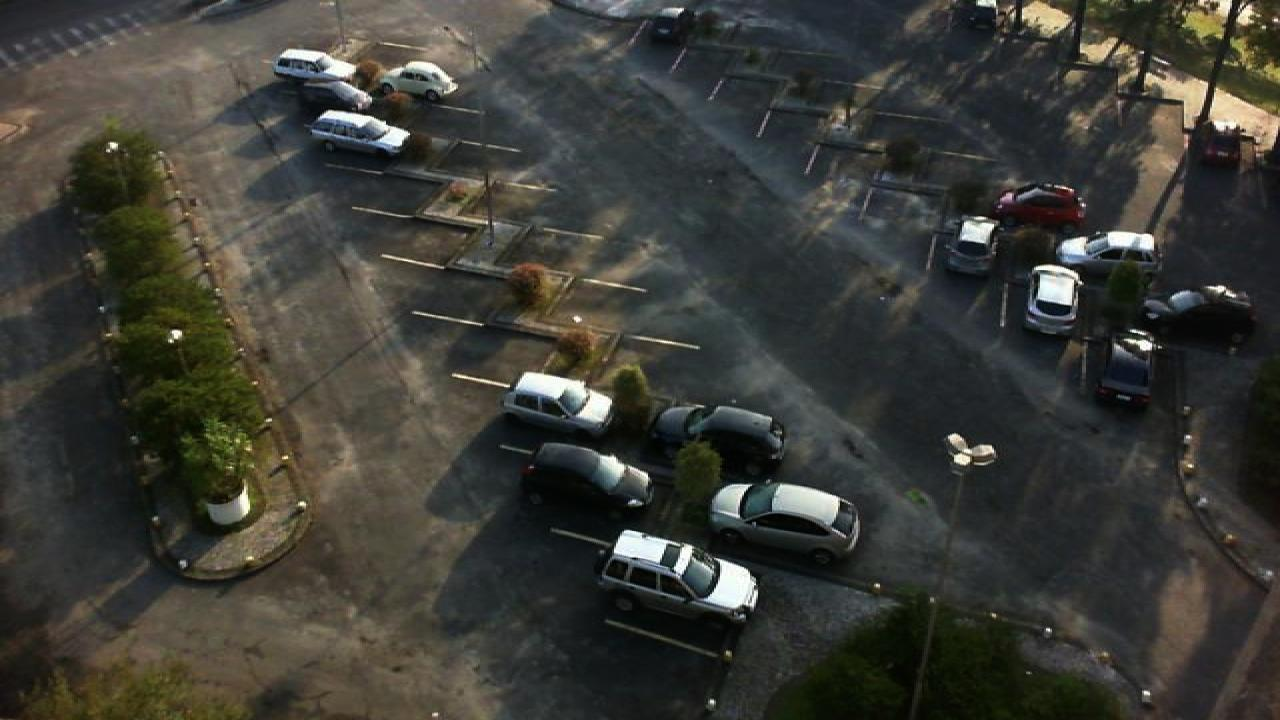Car: (592, 528, 764, 631), (706, 478, 862, 567), (648, 402, 788, 479), (518, 440, 654, 515), (500, 370, 614, 441), (1140, 281, 1260, 341), (1056, 229, 1166, 282), (1094, 326, 1158, 410), (306, 108, 412, 158), (994, 180, 1086, 234), (1022, 264, 1084, 338), (940, 214, 1000, 279), (272, 47, 358, 89), (380, 60, 458, 103), (290, 78, 374, 114), (1196, 116, 1248, 169), (640, 6, 694, 45), (950, 0, 1000, 33)
